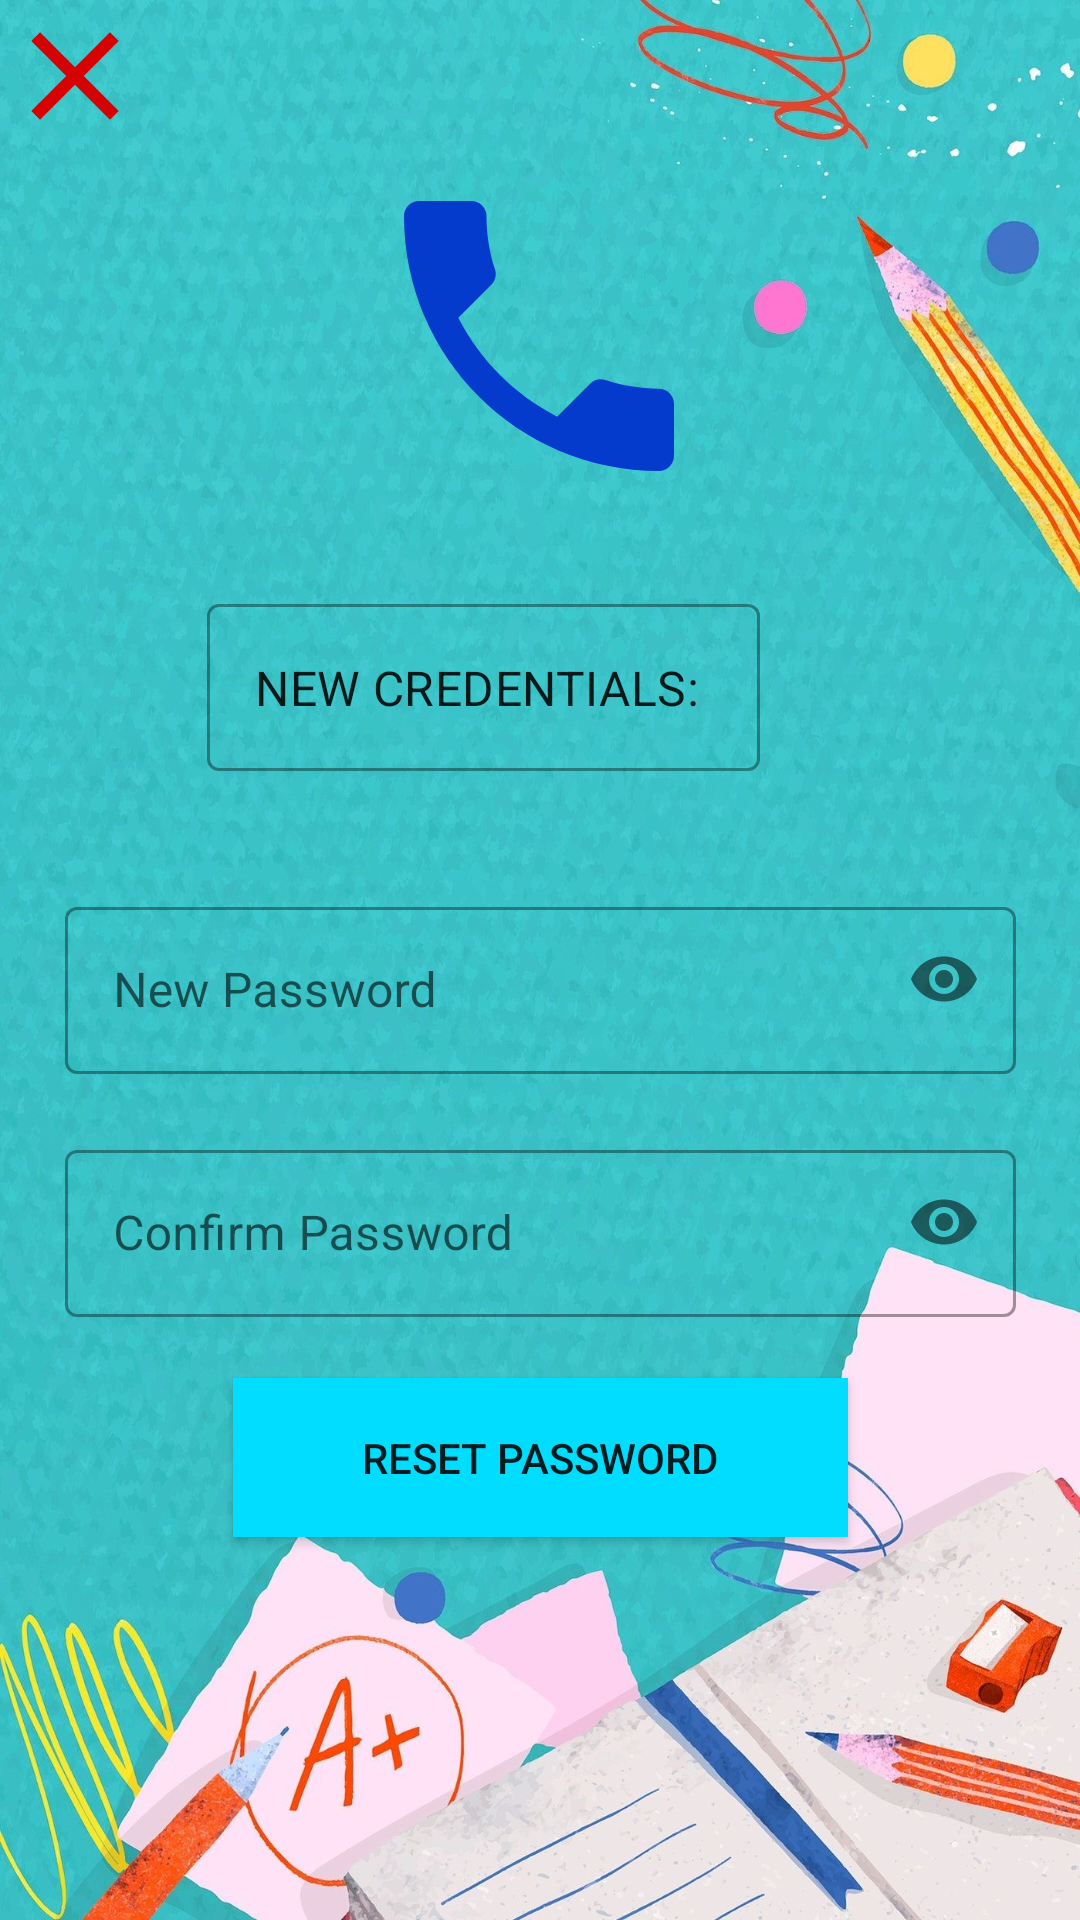

Named icons in this screenshot (1080 × 1920) and their centers, (x,y):
close: (75,76)
phone: (542,316)
